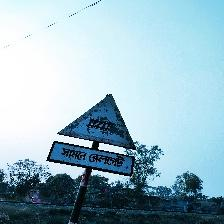Rail-crossing: (48, 93, 137, 176)
